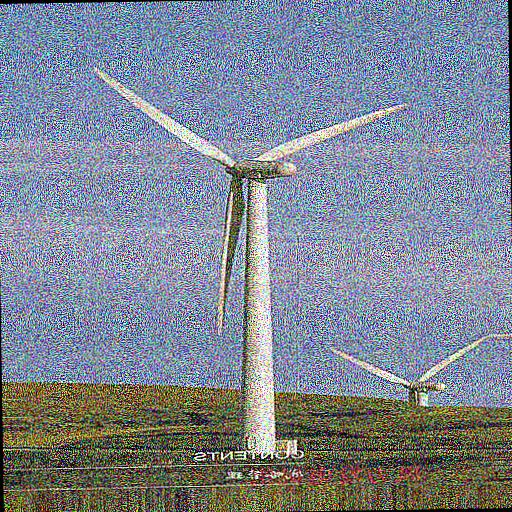wind turbine: (90, 63, 411, 435)
